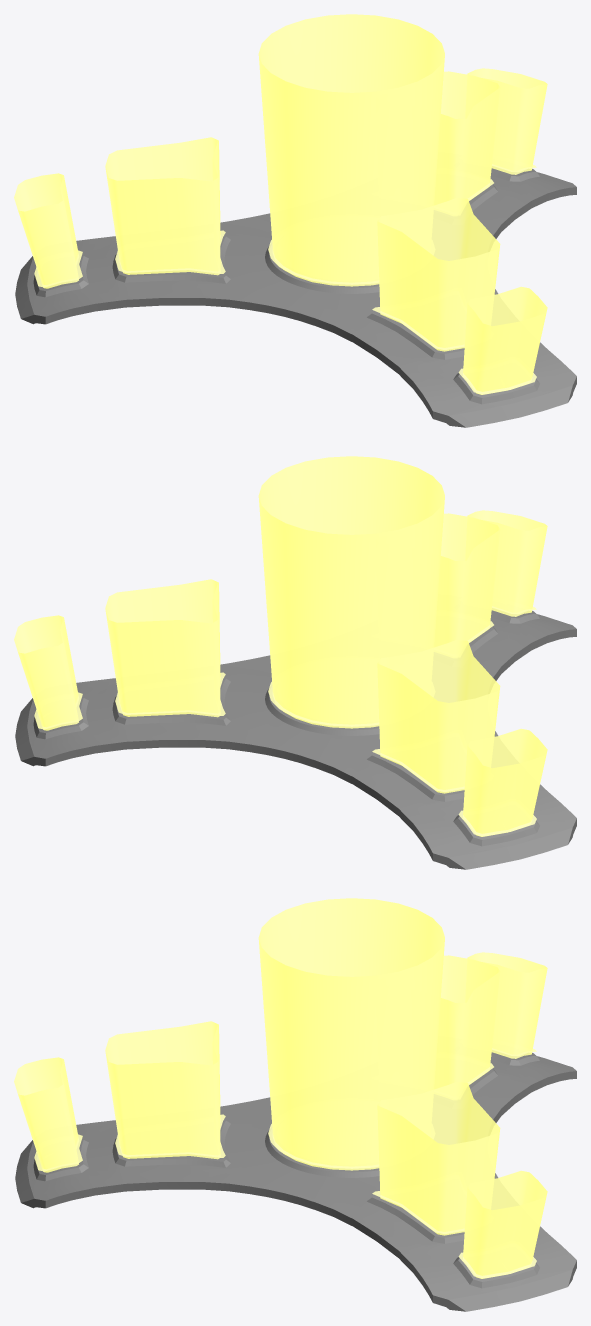
File: BoostPad_Large_Active.glb
The picture shows the model from 3 angles, top to bottom: view 1: azimuth 30°, elevation 25°; view 2: azimuth 150°, elevation 25°; view 3: azimuth 270°, elevation 25°; orthographic projection.
Parts seen in each view (by area): view 1: Active_Glow_Overlay, BoostPad_Large; view 2: Active_Glow_Overlay, BoostPad_Large; view 3: Active_Glow_Overlay, BoostPad_Large.
Boxes of the visible parts, left/top/right/bottom form: Active_Glow_Overlay: left=14, top=14, right=547, bottom=394; BoostPad_Large: left=15, top=168, right=576, bottom=427; Active_Glow_Overlay: left=14, top=456, right=547, bottom=836; BoostPad_Large: left=15, top=610, right=576, bottom=869; Active_Glow_Overlay: left=14, top=898, right=547, bottom=1278; BoostPad_Large: left=15, top=1052, right=576, bottom=1311.
Bounding box in the file's own units: 1.68 × 0.7076 × 1.5.
